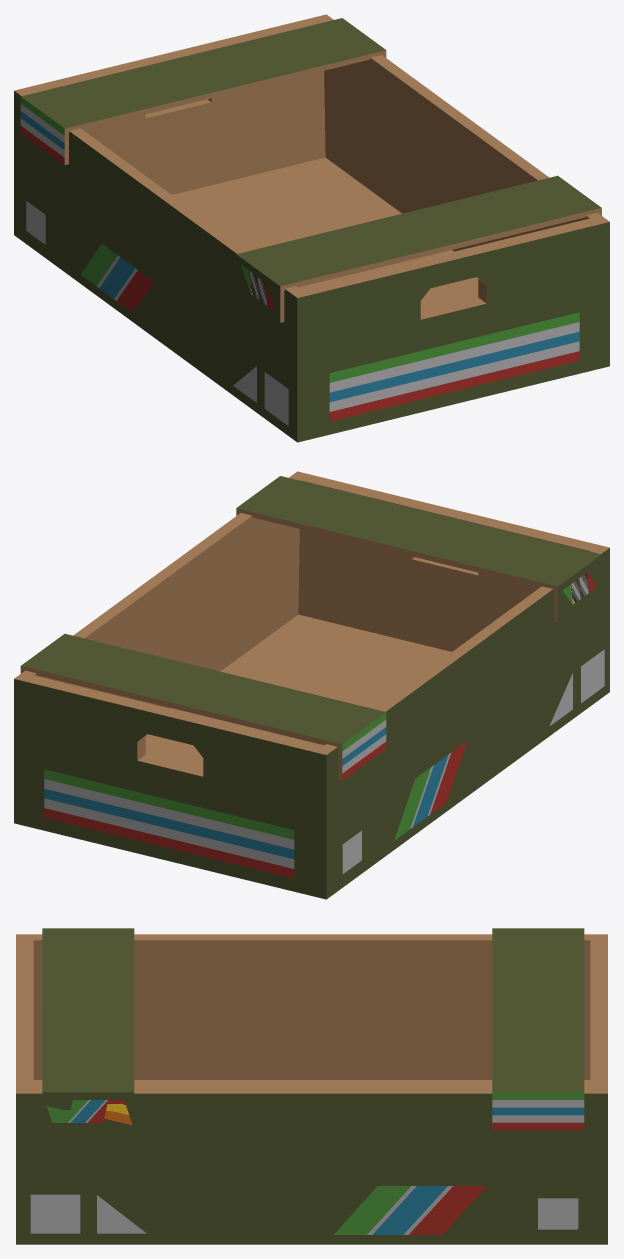
File: SM_crate_4.gltf
3 views of the same model, one above another, from view 1: azimuth 30°, elevation 25°; view 2: azimuth 150°, elevation 25°; view 3: azimuth 270°, elevation 25° (orthographic). The views are drawn at different scales.
Parts seen in each view (by area): view 1: SM_crate_4; view 2: SM_crate_4; view 3: SM_crate_4.
Boxes of the visible parts, x1,y1,x2,y2 form: SM_crate_4: (14,14,609,442); SM_crate_4: (14,471,609,899); SM_crate_4: (16,928,607,1244).
Size of the model in its own units: 0.7054 by 0.3104 by 1.08.
1 material, 1 textured.
